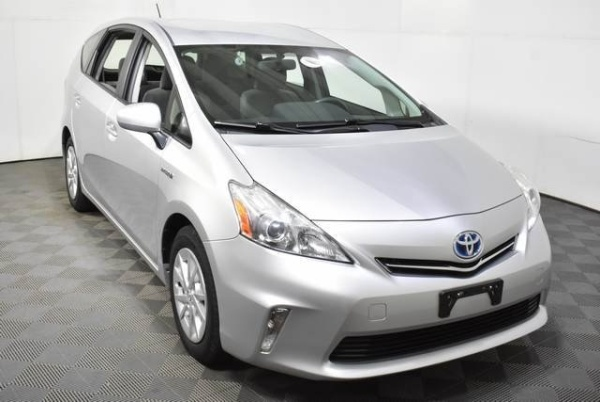Toyota Prius: (57, 12, 553, 383)
